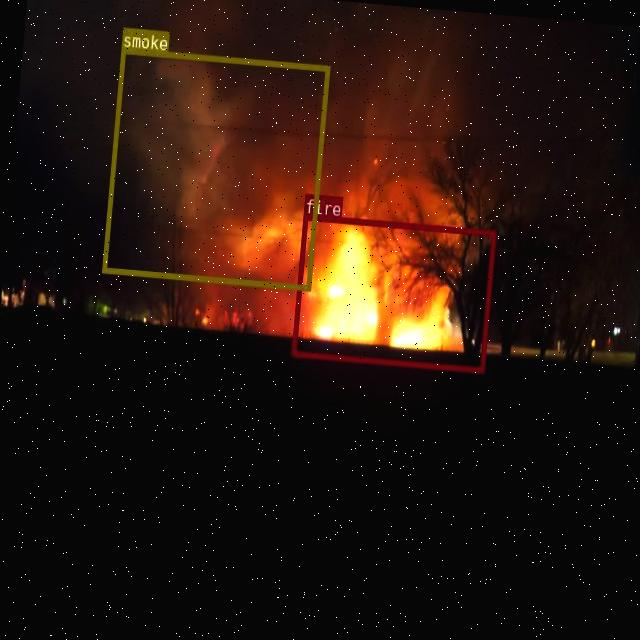fire: (290, 212, 494, 372)
smoke: (101, 47, 329, 290)
